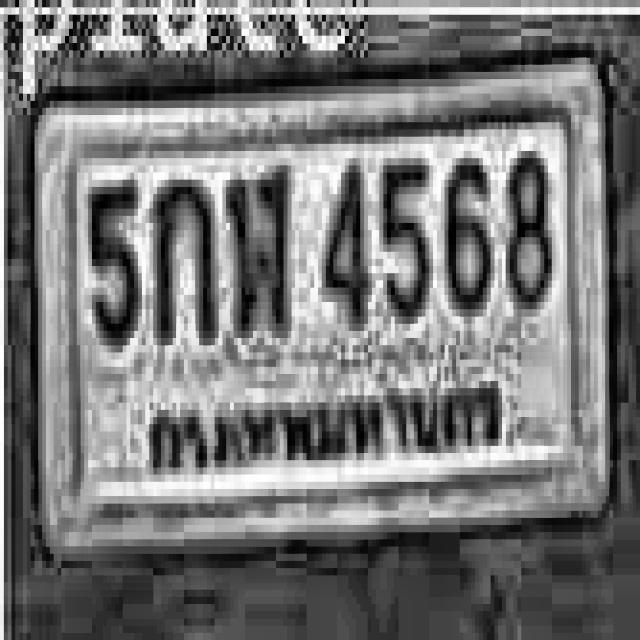license-plate: (24, 62, 622, 567)
